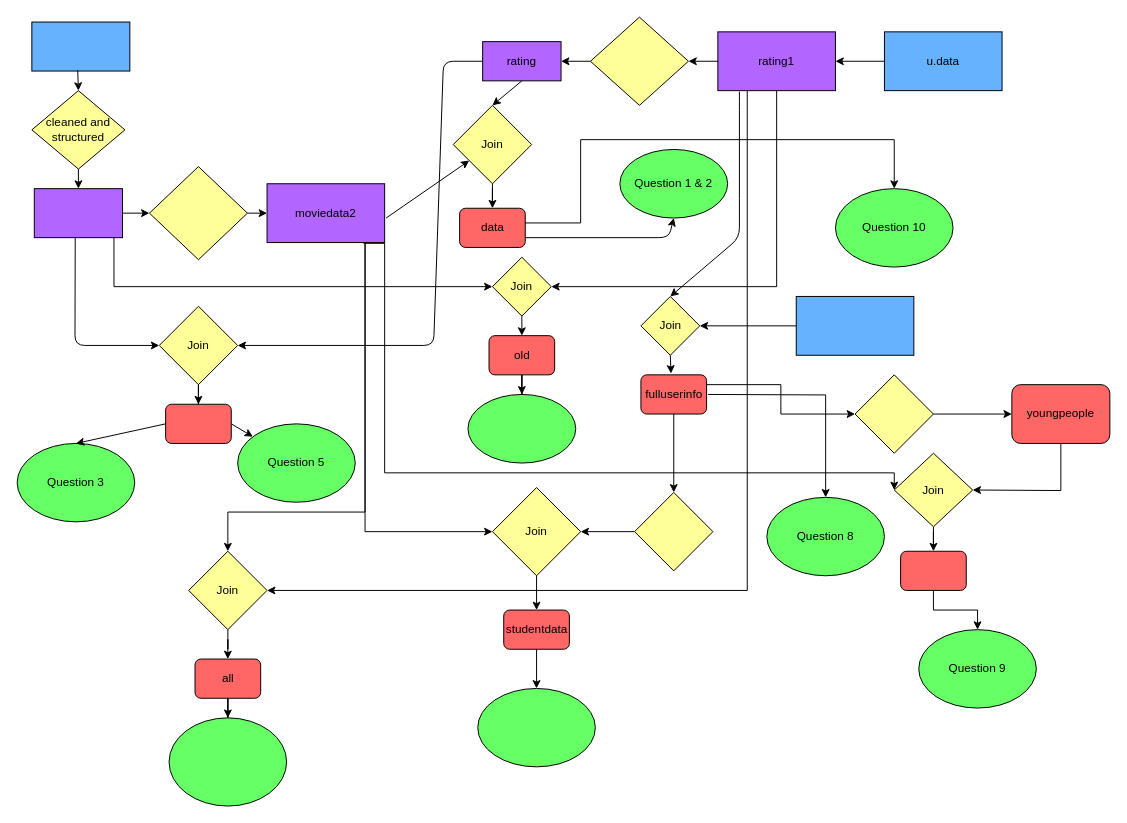
The diagram is 1127 pixels wide and 823 high, and some of its shapes have lost their labels. The centre of each missing label's shape, as x and y in pixels:
"cleaned" goes at [673,531].
"cleaned and structured, created new columns" goes at [638,60].
"combined genres" goes at [197,213].
"data2" goes at [198,423].
"filter" goes at [893,413].
"moviedata" goes at [77,213].
"Question 4" goes at [521,428].
"Question 6" goes at [536,727].
"Question 7" goes at [227,761].
"u.item" goes at [80,46].
"u.user" goes at [854,325].
"youngdata" goes at [933,570].
